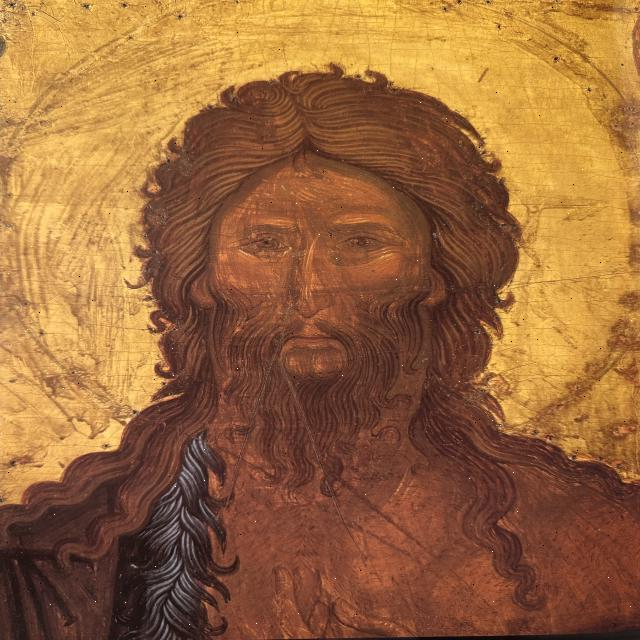aura: (1, 1, 640, 451)
saint: (66, 65, 530, 635)
